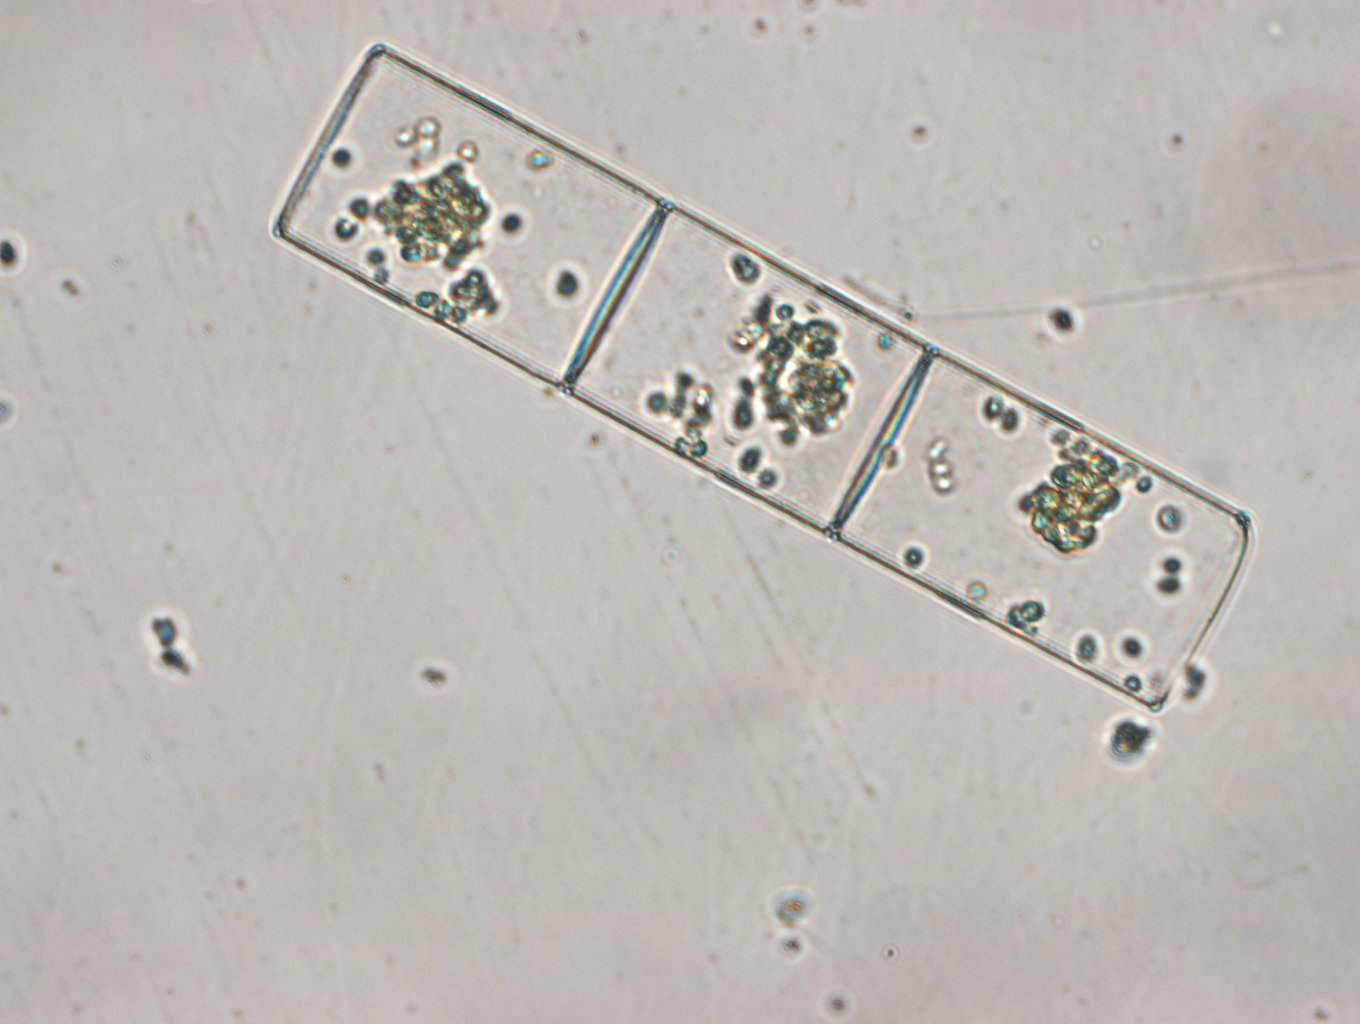guinardia flaccida: (255, 40, 1255, 713)
